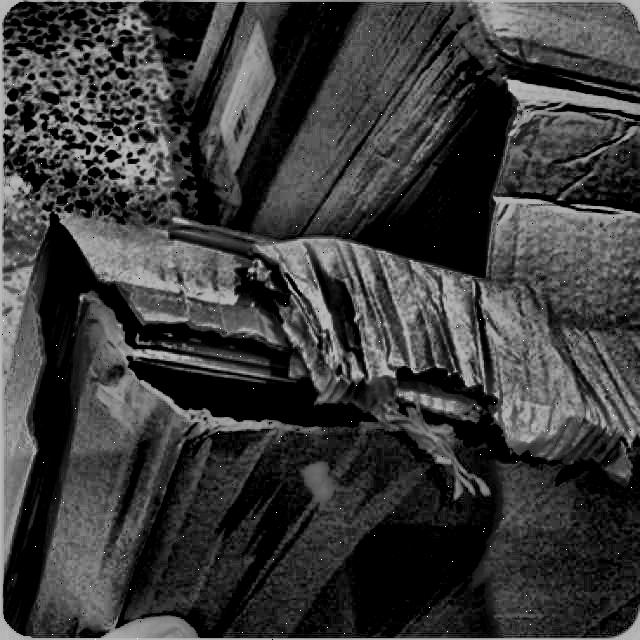box: (0, 210, 639, 639)
hole: (115, 310, 505, 492)
